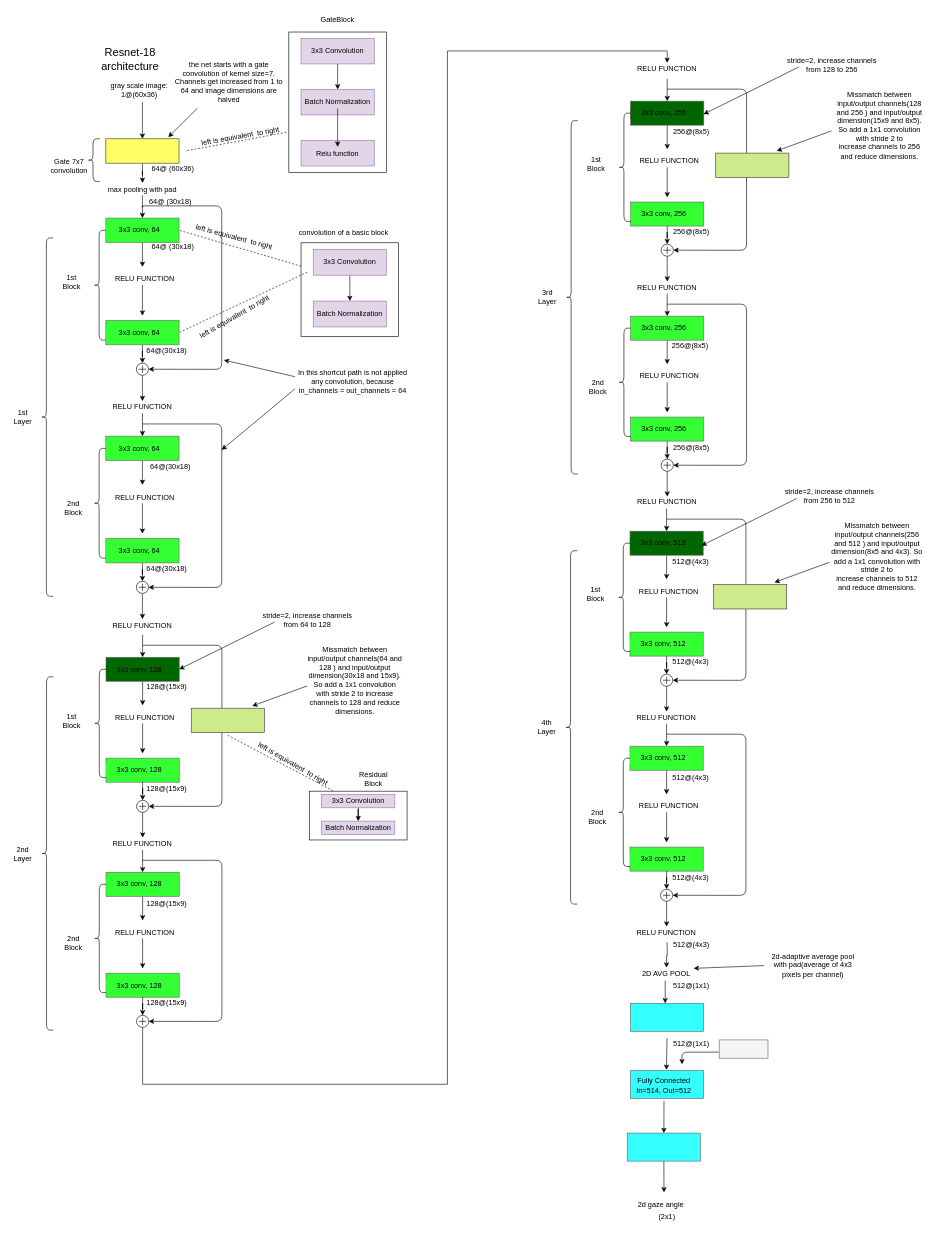
Some shapes in this 938 by 1233 pixel diagram are drawn without their labels. Here are the shapes that lost their labels. From the top down, the centre of each, then its label:
At (142,150): "7x7 conv, 64, /2".
At (752,165): "1x1 conv, 256, /2".
At (750,596): "1x1 conv, 512, /2".
At (227,720): "1x1 conv, 128, /2".
At (667,1017): "Fully Connected In=512, Out=512".
At (743,1048): "2x1 headpose information".
At (663,1146): "Fully Connected In=512, Out=2".
